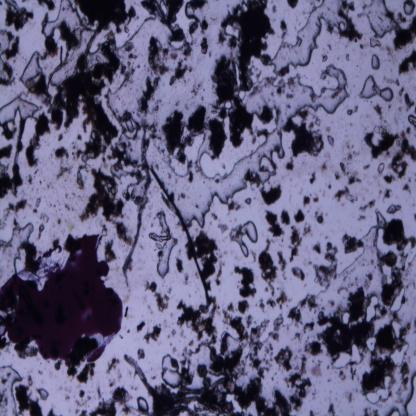Air bubble: (177, 121, 288, 212), (242, 68, 351, 121), (272, 0, 314, 69), (0, 222, 35, 279), (149, 213, 177, 278), (358, 1, 400, 34), (228, 220, 258, 258), (361, 74, 396, 104), (0, 365, 21, 414), (0, 98, 39, 122), (331, 342, 364, 370), (366, 374, 394, 406), (160, 354, 182, 390), (20, 50, 42, 86), (403, 369, 416, 416), (390, 342, 410, 367), (364, 292, 378, 323), (135, 394, 150, 413), (0, 28, 11, 53), (369, 53, 381, 72), (38, 384, 50, 402), (404, 0, 416, 17), (367, 36, 382, 49), (388, 404, 403, 416), (0, 58, 7, 81), (339, 312, 351, 324)
Background material: (47, 40, 118, 156), (218, 0, 275, 92), (148, 383, 290, 416), (319, 283, 379, 354), (360, 313, 406, 396), (214, 57, 255, 144), (162, 97, 206, 166), (202, 333, 249, 385), (81, 169, 127, 220), (143, 1, 188, 43), (73, 0, 137, 27), (174, 303, 219, 336), (288, 120, 328, 157), (194, 228, 221, 282), (336, 0, 366, 48), (379, 213, 416, 251), (221, 308, 258, 346), (312, 235, 340, 284), (114, 39, 138, 94), (390, 134, 416, 182), (134, 75, 164, 115), (284, 369, 312, 411), (364, 127, 399, 160), (14, 380, 44, 416), (90, 389, 130, 414), (147, 35, 170, 77), (232, 264, 258, 300), (3, 0, 34, 30), (196, 296, 218, 336), (151, 278, 174, 314), (379, 271, 402, 307), (208, 117, 227, 157), (394, 14, 416, 48), (101, 355, 124, 387), (264, 210, 288, 239), (71, 382, 90, 416), (288, 224, 304, 262), (236, 168, 266, 188), (332, 274, 364, 292), (393, 49, 416, 74), (275, 345, 295, 373), (250, 348, 268, 378), (167, 60, 190, 83), (372, 102, 392, 128), (0, 162, 13, 200), (27, 139, 42, 171), (398, 358, 413, 390), (340, 235, 365, 254), (258, 187, 284, 204), (118, 221, 134, 247), (334, 189, 360, 204), (62, 26, 77, 52), (263, 271, 279, 295), (72, 166, 85, 195), (168, 342, 199, 354), (302, 342, 325, 358), (29, 189, 42, 217), (7, 198, 29, 214), (262, 294, 289, 307), (0, 121, 18, 140), (48, 238, 69, 254), (77, 366, 95, 384), (9, 35, 21, 62), (145, 324, 162, 343), (52, 166, 72, 182), (126, 345, 146, 361), (148, 125, 162, 147), (310, 361, 326, 380), (275, 248, 286, 275), (55, 140, 68, 162), (259, 106, 274, 125), (346, 102, 363, 118), (343, 145, 357, 164), (290, 267, 307, 282), (359, 196, 376, 211), (0, 143, 13, 162), (188, 1, 210, 12), (362, 269, 373, 291), (223, 303, 234, 324), (38, 0, 57, 12), (182, 41, 194, 60), (228, 199, 243, 214), (405, 89, 416, 109), (41, 11, 49, 38), (265, 342, 275, 363), (291, 209, 306, 223), (277, 63, 292, 77), (347, 172, 362, 186), (200, 36, 210, 56), (116, 27, 134, 38), (216, 266, 225, 288), (299, 195, 312, 210), (344, 388, 356, 404), (282, 158, 297, 170), (386, 203, 404, 213), (365, 406, 383, 416), (313, 238, 322, 257), (308, 168, 318, 185), (189, 86, 202, 99), (289, 308, 302, 321), (300, 323, 314, 335), (299, 107, 310, 122), (300, 357, 309, 375), (136, 318, 146, 334), (278, 24, 288, 40), (285, 0, 301, 10), (300, 223, 311, 237), (350, 365, 359, 382), (402, 181, 412, 196), (119, 303, 131, 315), (46, 403, 57, 416), (328, 402, 338, 416), (275, 313, 285, 327), (327, 134, 337, 148), (382, 187, 392, 201), (407, 114, 416, 129), (397, 79, 404, 98), (64, 203, 75, 215), (268, 330, 278, 343), (261, 240, 271, 253), (242, 195, 254, 205), (74, 146, 82, 161), (340, 162, 348, 177), (65, 366, 75, 378), (376, 164, 386, 175), (35, 226, 45, 237), (171, 52, 181, 63), (250, 244, 256, 262), (42, 214, 52, 224), (322, 162, 329, 176), (383, 176, 395, 184), (179, 256, 185, 272), (57, 214, 65, 226), (188, 172, 195, 185), (278, 82, 284, 97), (68, 219, 76, 230), (29, 175, 36, 187), (338, 371, 348, 379), (74, 130, 80, 143), (393, 312, 400, 323), (356, 214, 367, 221), (309, 94, 318, 102), (361, 165, 371, 172), (401, 295, 407, 306), (212, 210, 219, 219), (289, 80, 296, 89), (294, 333, 301, 342), (285, 93, 295, 99), (345, 50, 350, 62), (334, 173, 341, 180), (300, 300, 305, 308), (297, 39, 302, 47), (310, 411, 317, 416), (323, 57, 330, 62), (314, 196, 318, 204), (327, 44, 332, 50), (414, 317, 416, 332), (75, 194, 79, 201), (408, 325, 412, 331), (55, 366, 61, 370), (329, 185, 332, 190)
Cellulose filter fibre: (121, 121, 150, 287), (122, 354, 160, 398), (12, 115, 26, 198)
Diatom: (257, 250, 273, 270), (235, 299, 252, 315), (43, 35, 58, 52), (385, 250, 397, 268), (34, 121, 46, 136), (196, 363, 208, 378), (307, 297, 316, 307), (317, 214, 324, 225)
Hair: (149, 167, 211, 307)
Pen: (0, 234, 121, 366)
